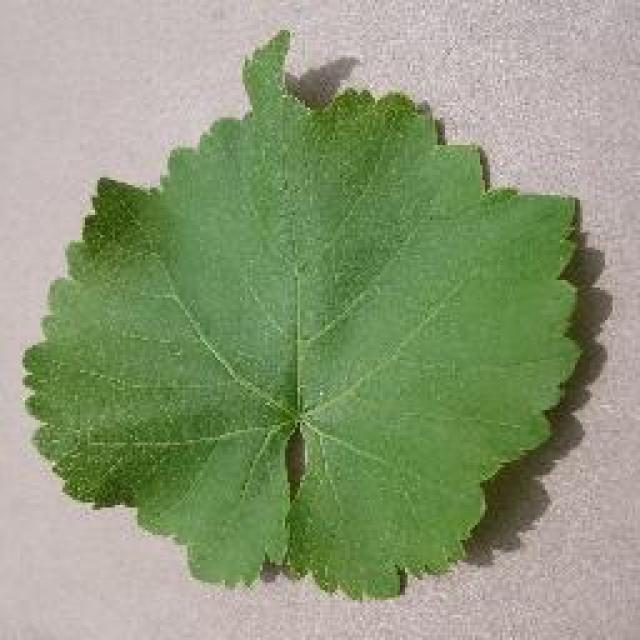Grape___healthy: (25, 30, 578, 595)
